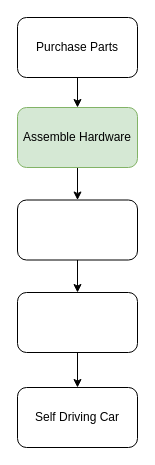
Image size: 155x465. Some labels were removed from this diagram. Each missing label, with the centre of its shape:
Assemble Software: (77,229)
Final Configuration: (77,322)
